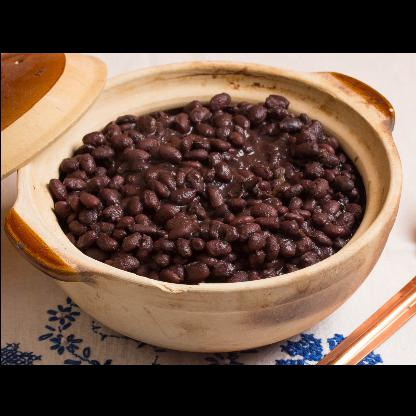black beans: (49, 92, 362, 282)
